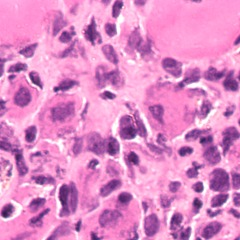New: (140, 78, 206, 143), (35, 93, 85, 141), (2, 74, 42, 128)
